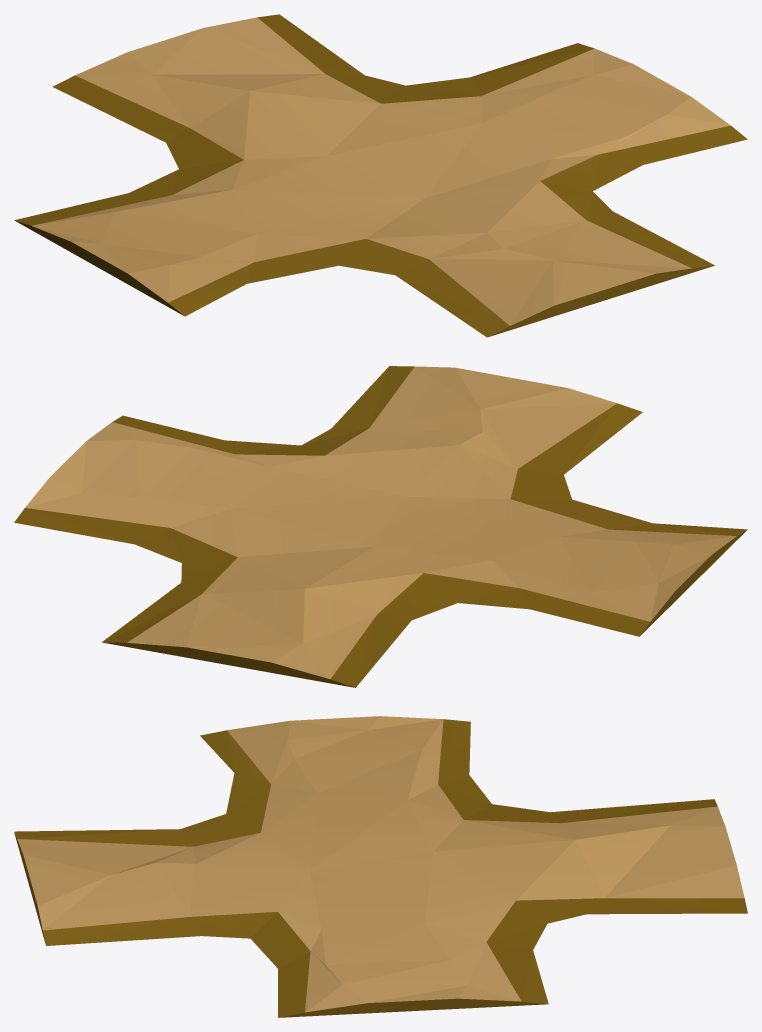
Rendered from Road_Cross.fbx.
3 views of the same model, one above another, from view 1: azimuth 30°, elevation 25°; view 2: azimuth 150°, elevation 25°; view 3: azimuth 270°, elevation 25° (orthographic). The views are drawn at different scales.
Visible parts, largest first — view 1: Road_Cross; view 2: Road_Cross; view 3: Road_Cross.
Part boxes in pixels (bbox=[...]): Road_Cross: bbox=[14, 14, 747, 337]; Road_Cross: bbox=[14, 366, 747, 687]; Road_Cross: bbox=[14, 716, 747, 1017].
Size of the model in its own units: 7.7 by 0.2158 by 8.07.
1 material, 1 textured.
